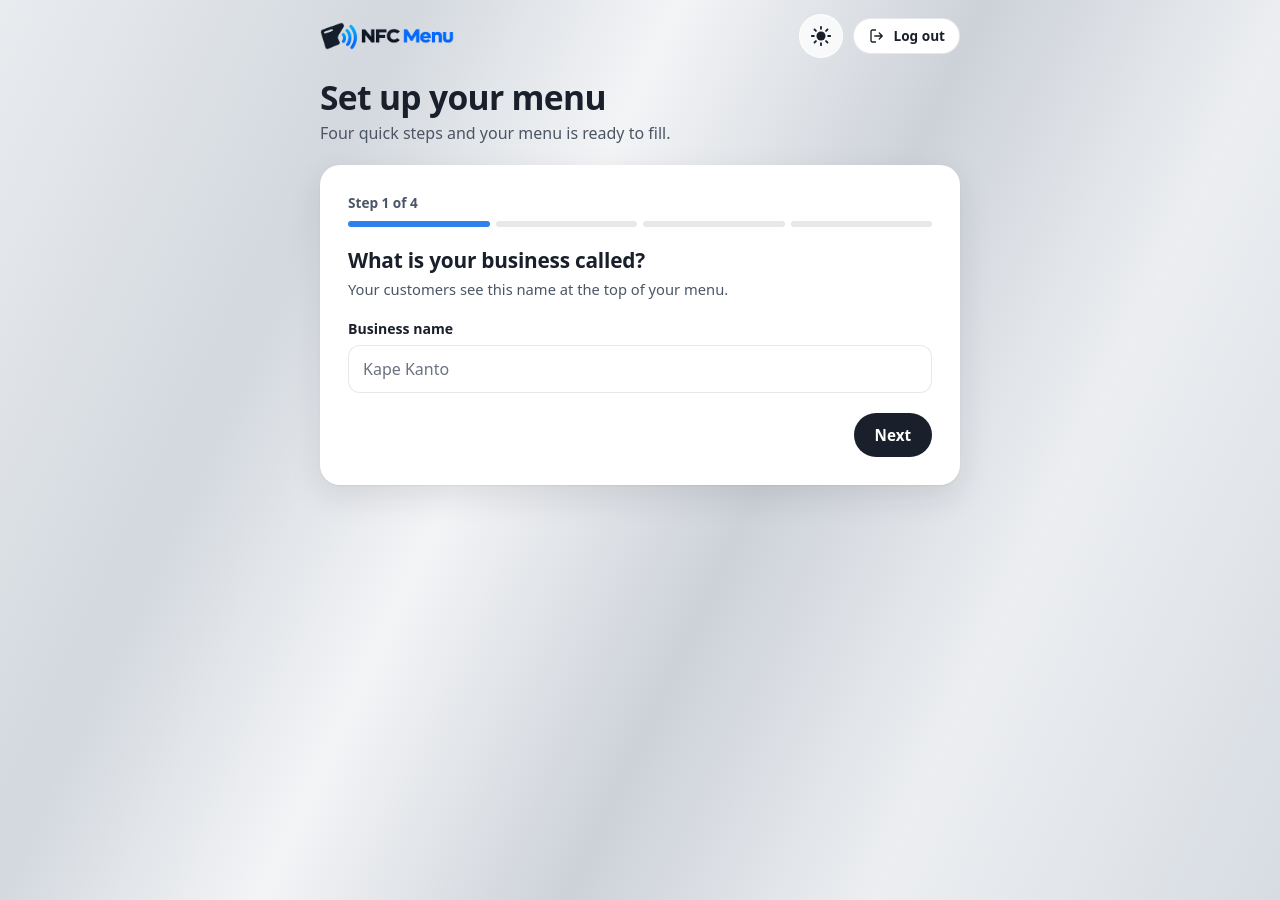
Test case: the steps of the setup wizard › business name › takes the message away once the owner types
Click the button "Next": (893, 435) [854, 413, 932, 457]
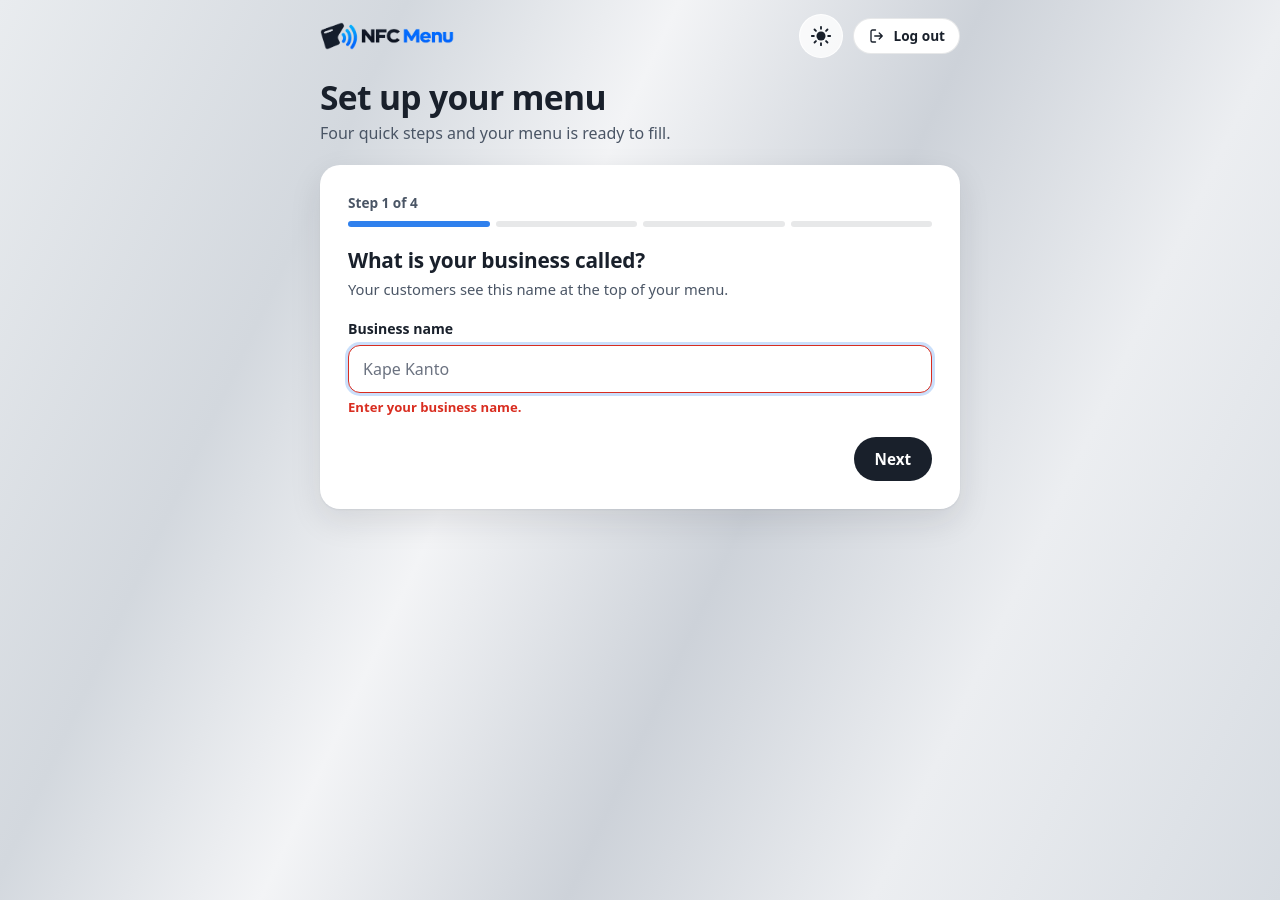
In the field labelled "Business name": (640, 369) [348, 345, 932, 393], type "K"
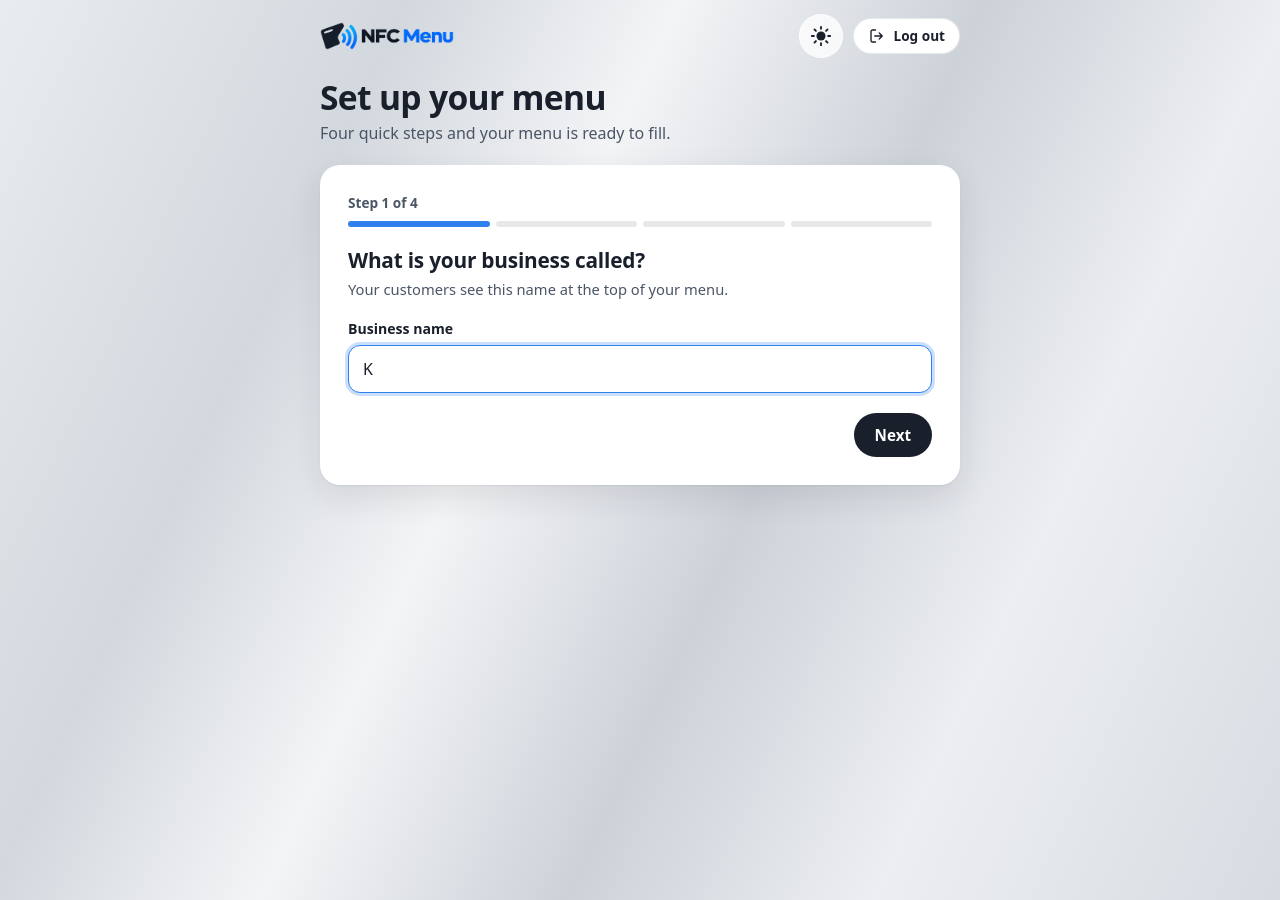
Result: the text "Enter your business name." is gone
